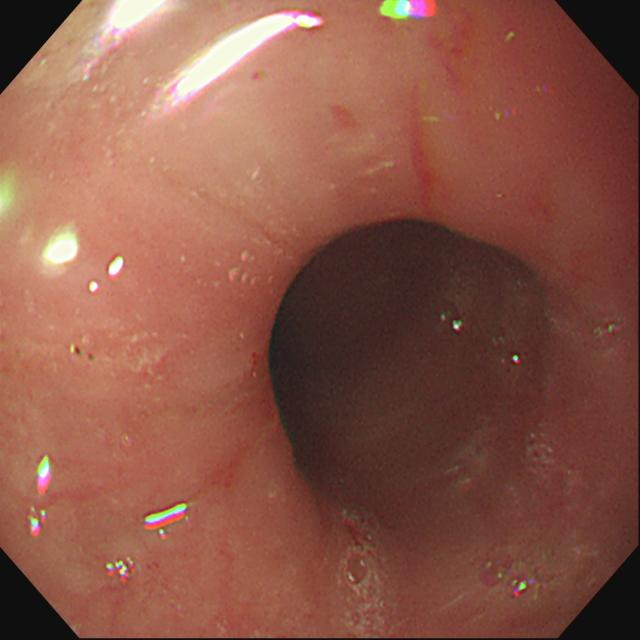E: (270, 222, 522, 496)
T: (341, 506, 396, 639), (480, 548, 558, 601)
U: (167, 12, 326, 105), (90, 2, 173, 74), (39, 224, 81, 269), (143, 501, 190, 533), (378, 2, 446, 24), (35, 453, 57, 497), (106, 556, 136, 581), (28, 506, 49, 540), (106, 255, 126, 279)
